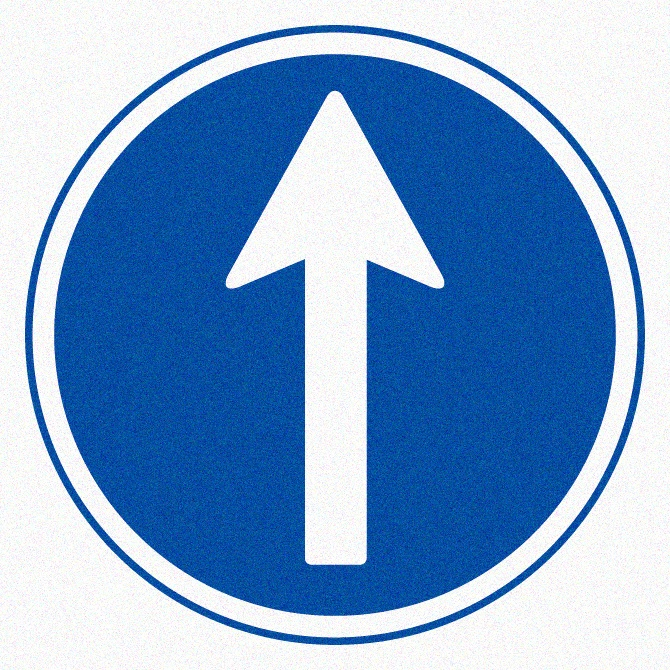Direction_sign: (25, 30, 653, 659)
